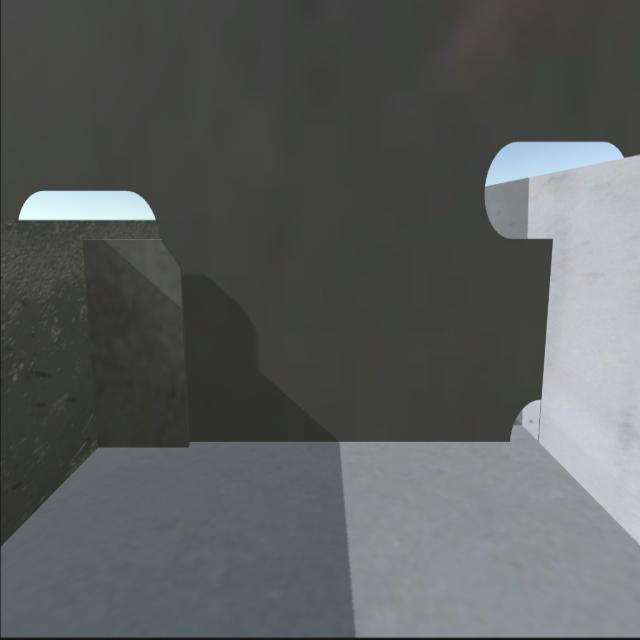fillet_hole: (499, 390, 544, 441)
fillet_yong_jeop_jang: (97, 429, 510, 450)
longi_yong_jeop_jang: (81, 238, 108, 447), (534, 239, 556, 396)
plate_CP03: (84, 238, 193, 447)
